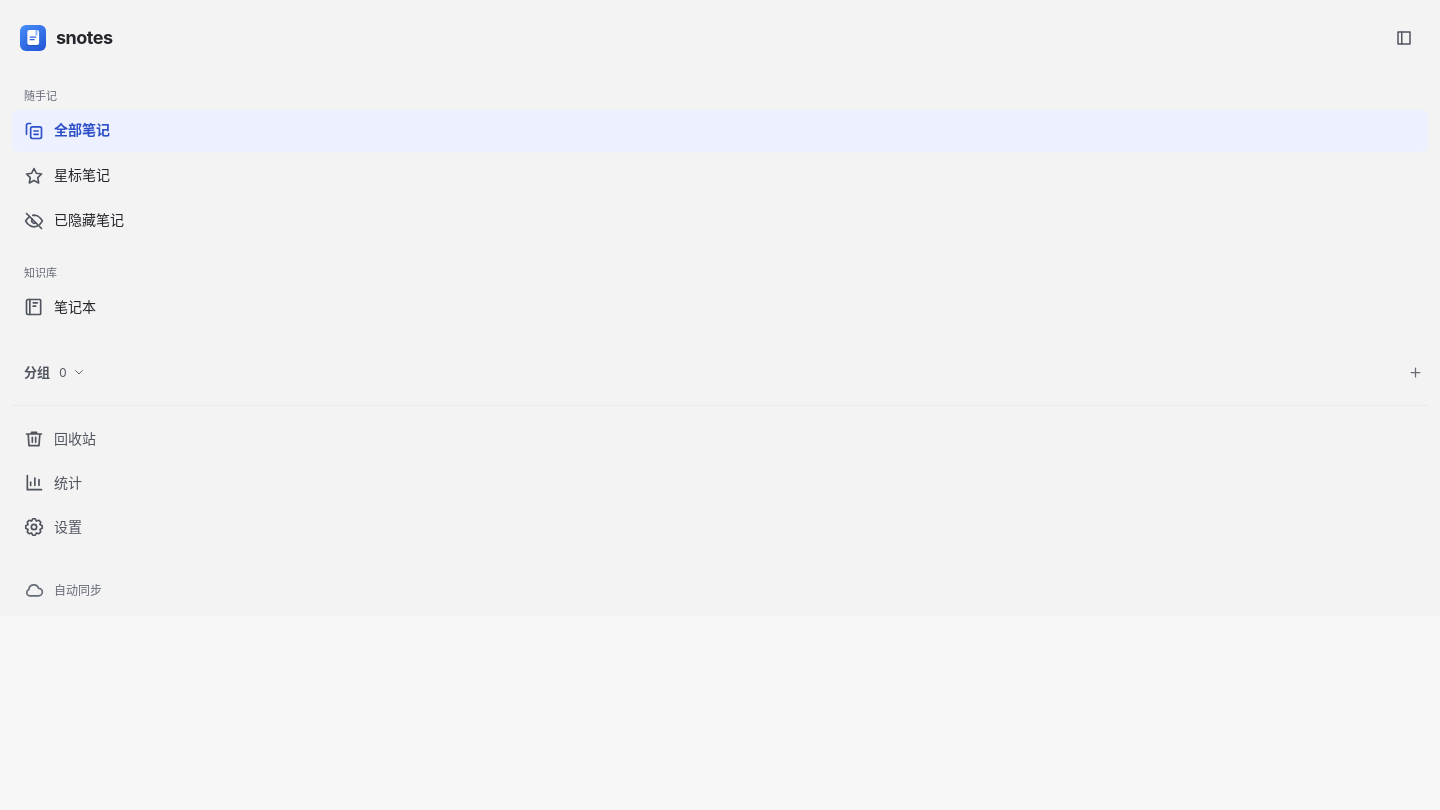
Test: GroupSidebar 底部版本与同步入口 › 同步期间显示加载状态并禁止重复点击，完成后恢复
Step 1. Click the button with class "sync-idle" → (63, 590), box 12,574 -> 114,606
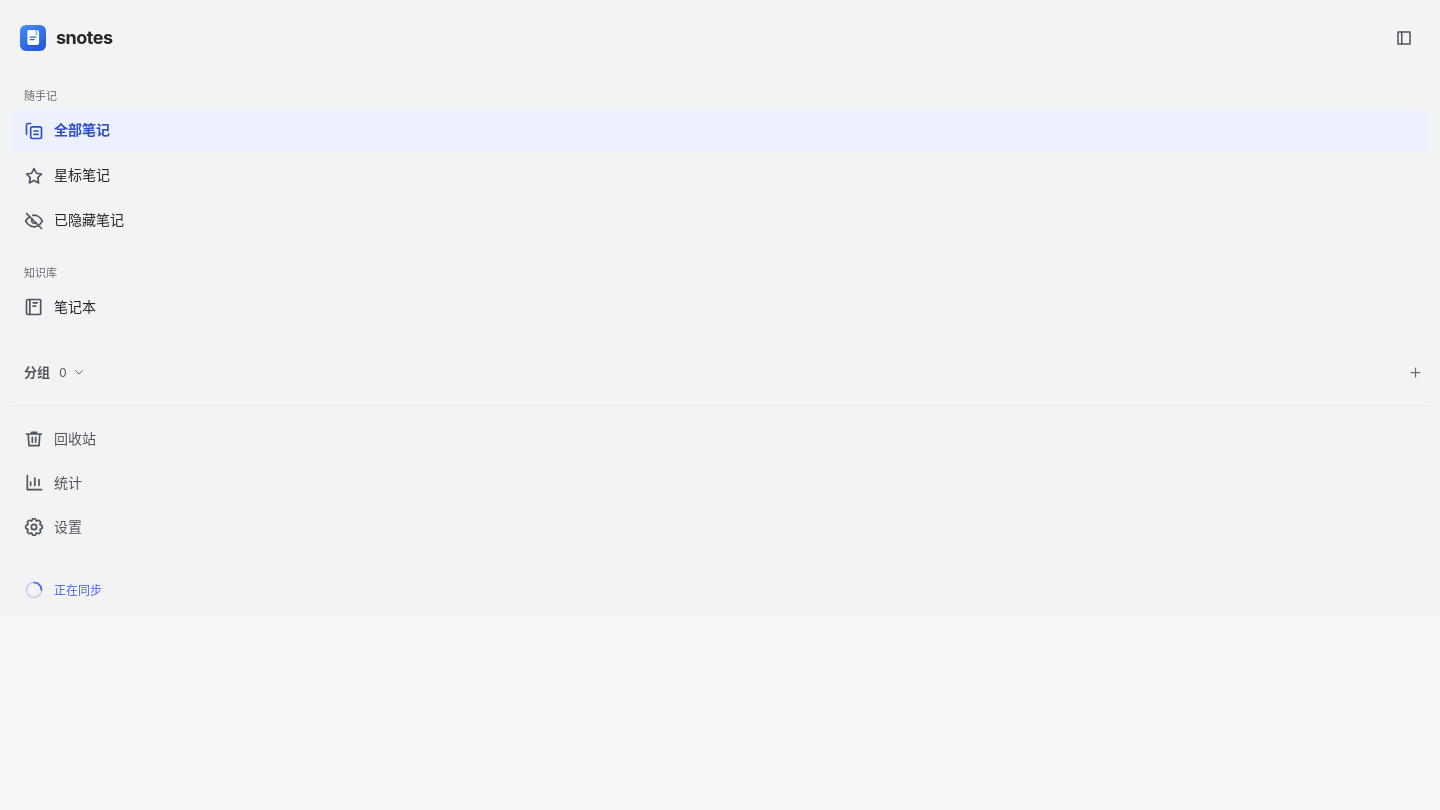
Now the button with class "sync-idle" is disabled
Now the icon with class "sync-spinner" is shown, box 24,580 -> 44,600
Step 2. Click the button with class "sync-idle" → (63, 590), box 12,574 -> 114,606
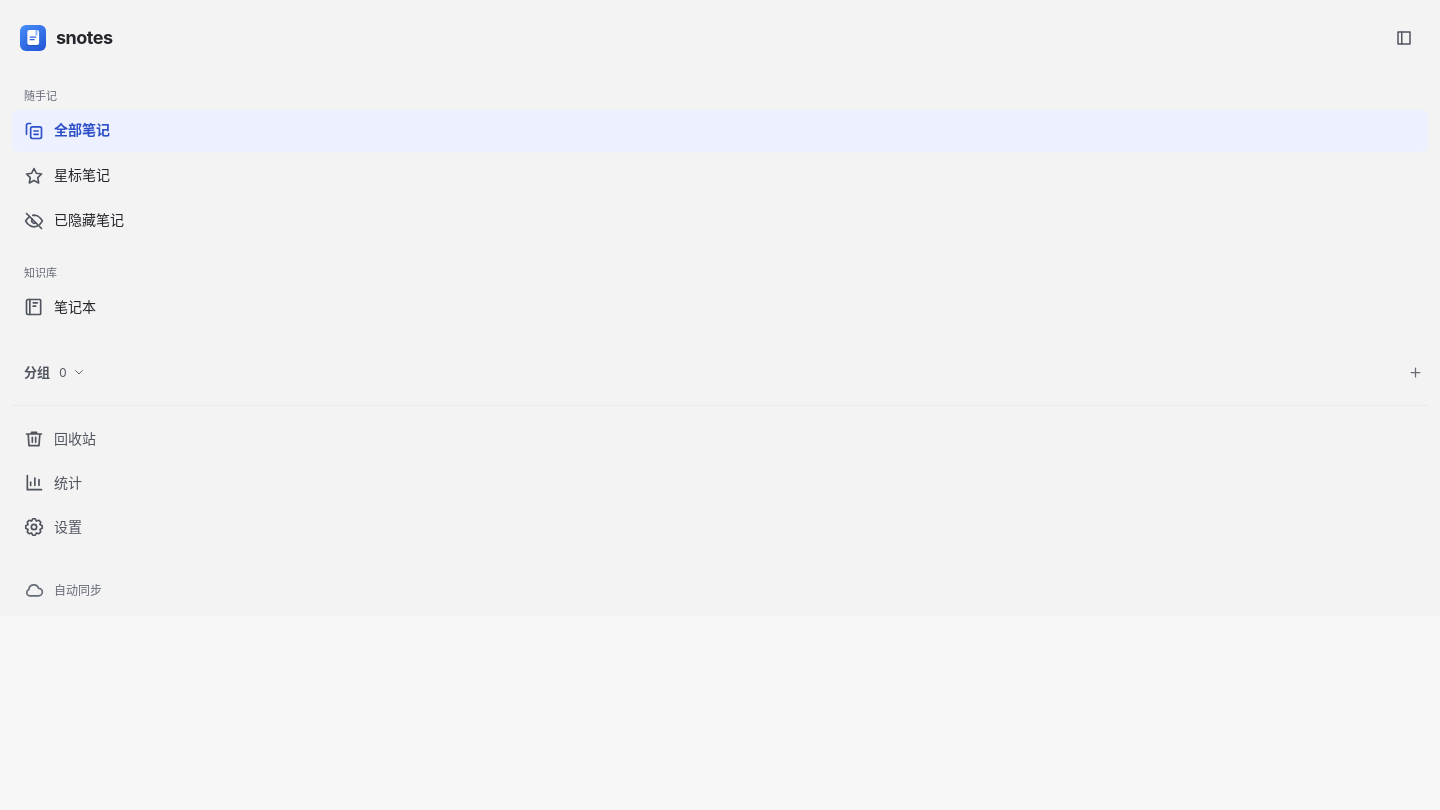
Now the button with class "sync-idle" is enabled, box 12,574 -> 114,606
